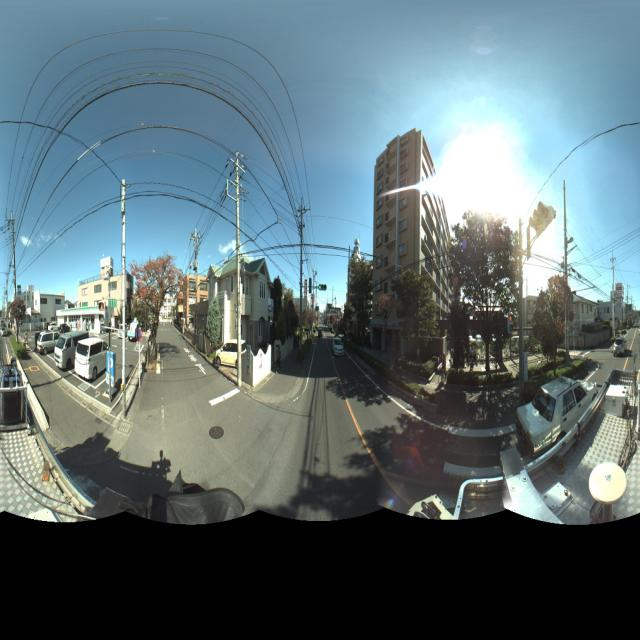b_1: (370, 136, 460, 340), (206, 242, 276, 367), (77, 252, 140, 326), (180, 257, 212, 337), (566, 275, 594, 348), (517, 283, 548, 343), (602, 281, 633, 337)
b_2: (338, 248, 374, 361)
